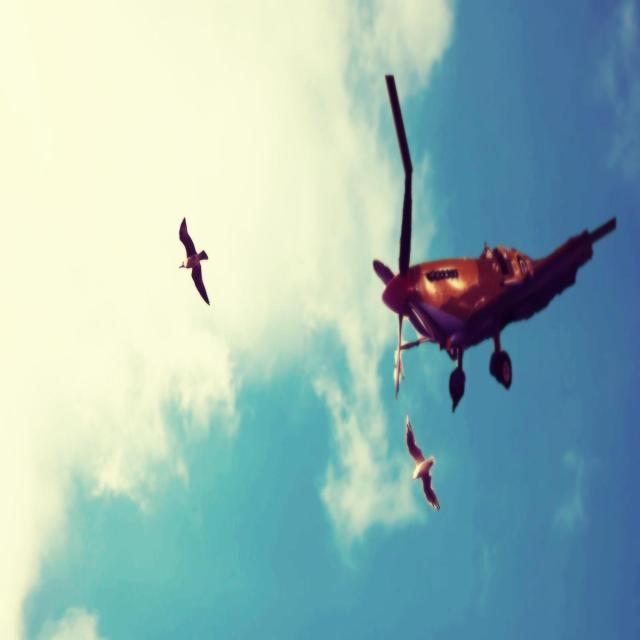airplane: (372, 72, 617, 412)
